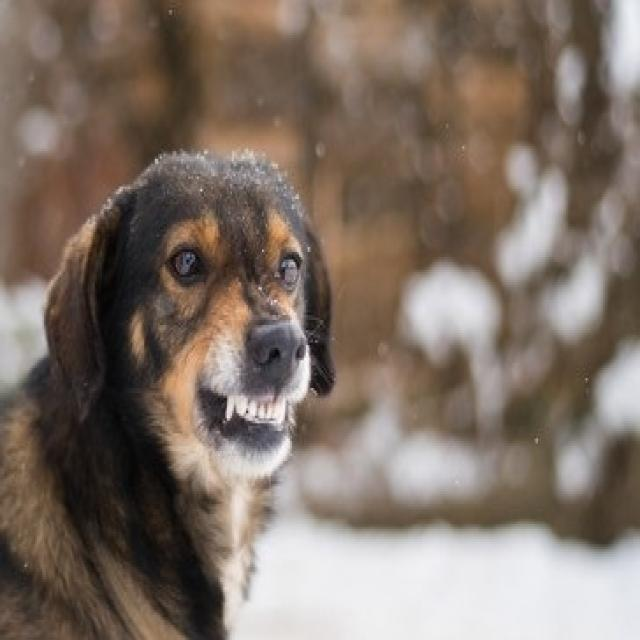angry: (2, 149, 347, 640)
